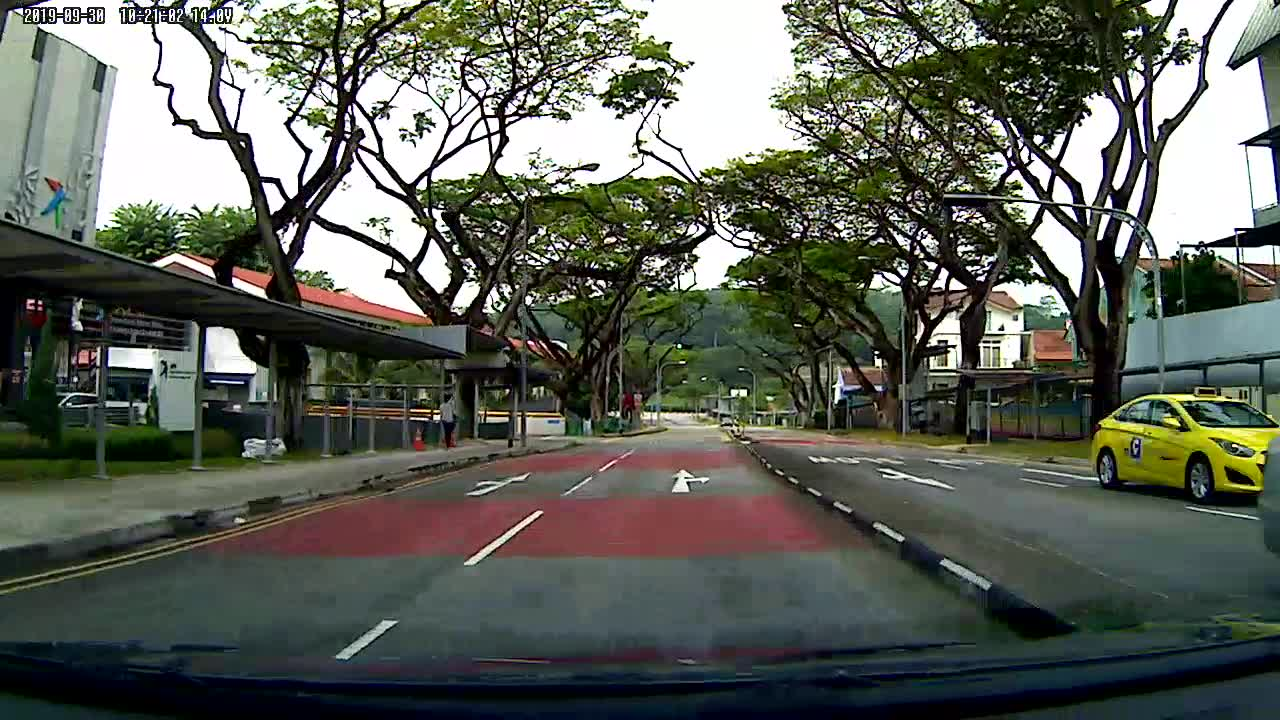car: (1086, 385, 1280, 503)
